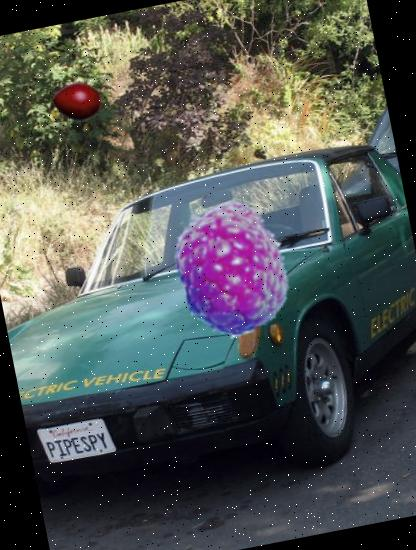Raspberry: (154, 189, 312, 348)
Tamarillo: (49, 69, 112, 132)
